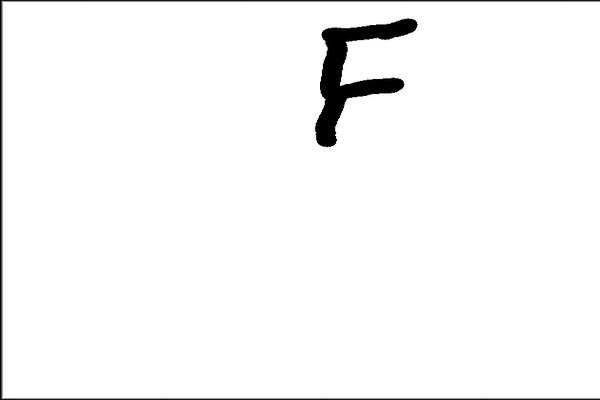F: (308, 15, 420, 150)
